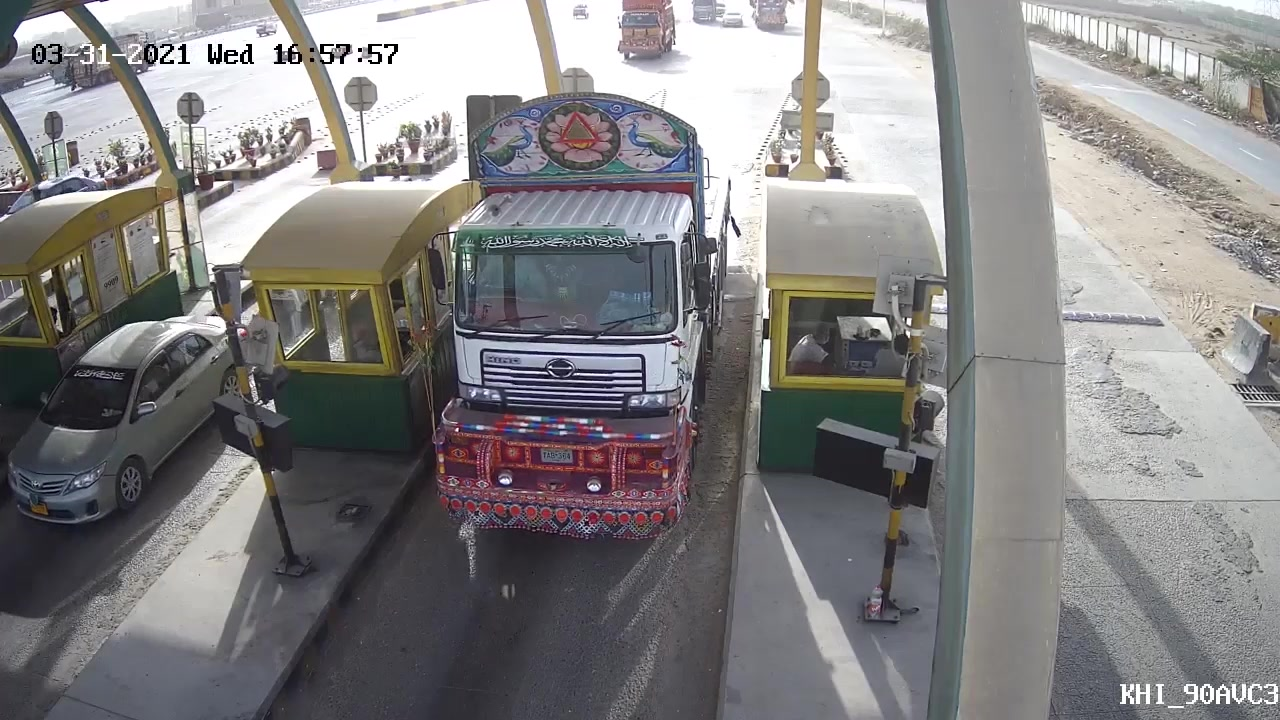F5: (433, 94, 740, 557)
